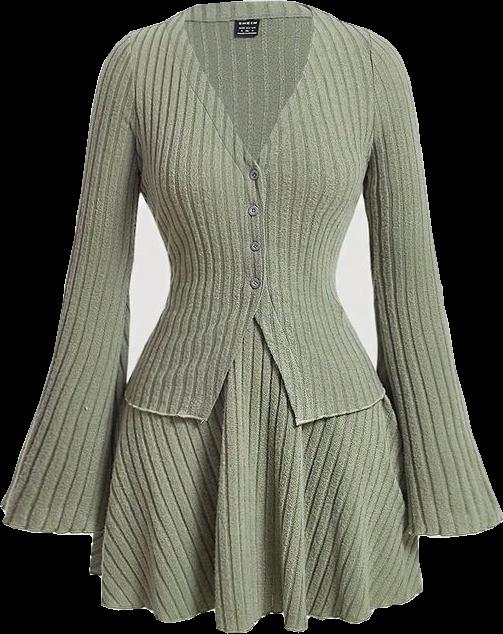Bodice: (123, 0, 386, 425)
Hemline: (87, 567, 428, 633)
Neckline: (180, 6, 318, 164)
Skirt: (89, 319, 422, 632)
Sleeve: (0, 30, 140, 537), (363, 30, 502, 540)
Sleeveline: (363, 31, 384, 184), (129, 28, 144, 191)
Waistline: (119, 316, 392, 425)
